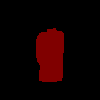maglione: (36, 28, 64, 82)
